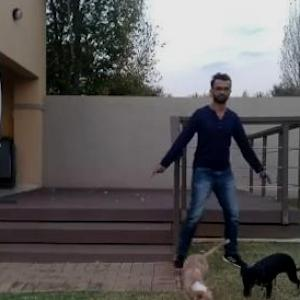land: (152, 75, 268, 276)
